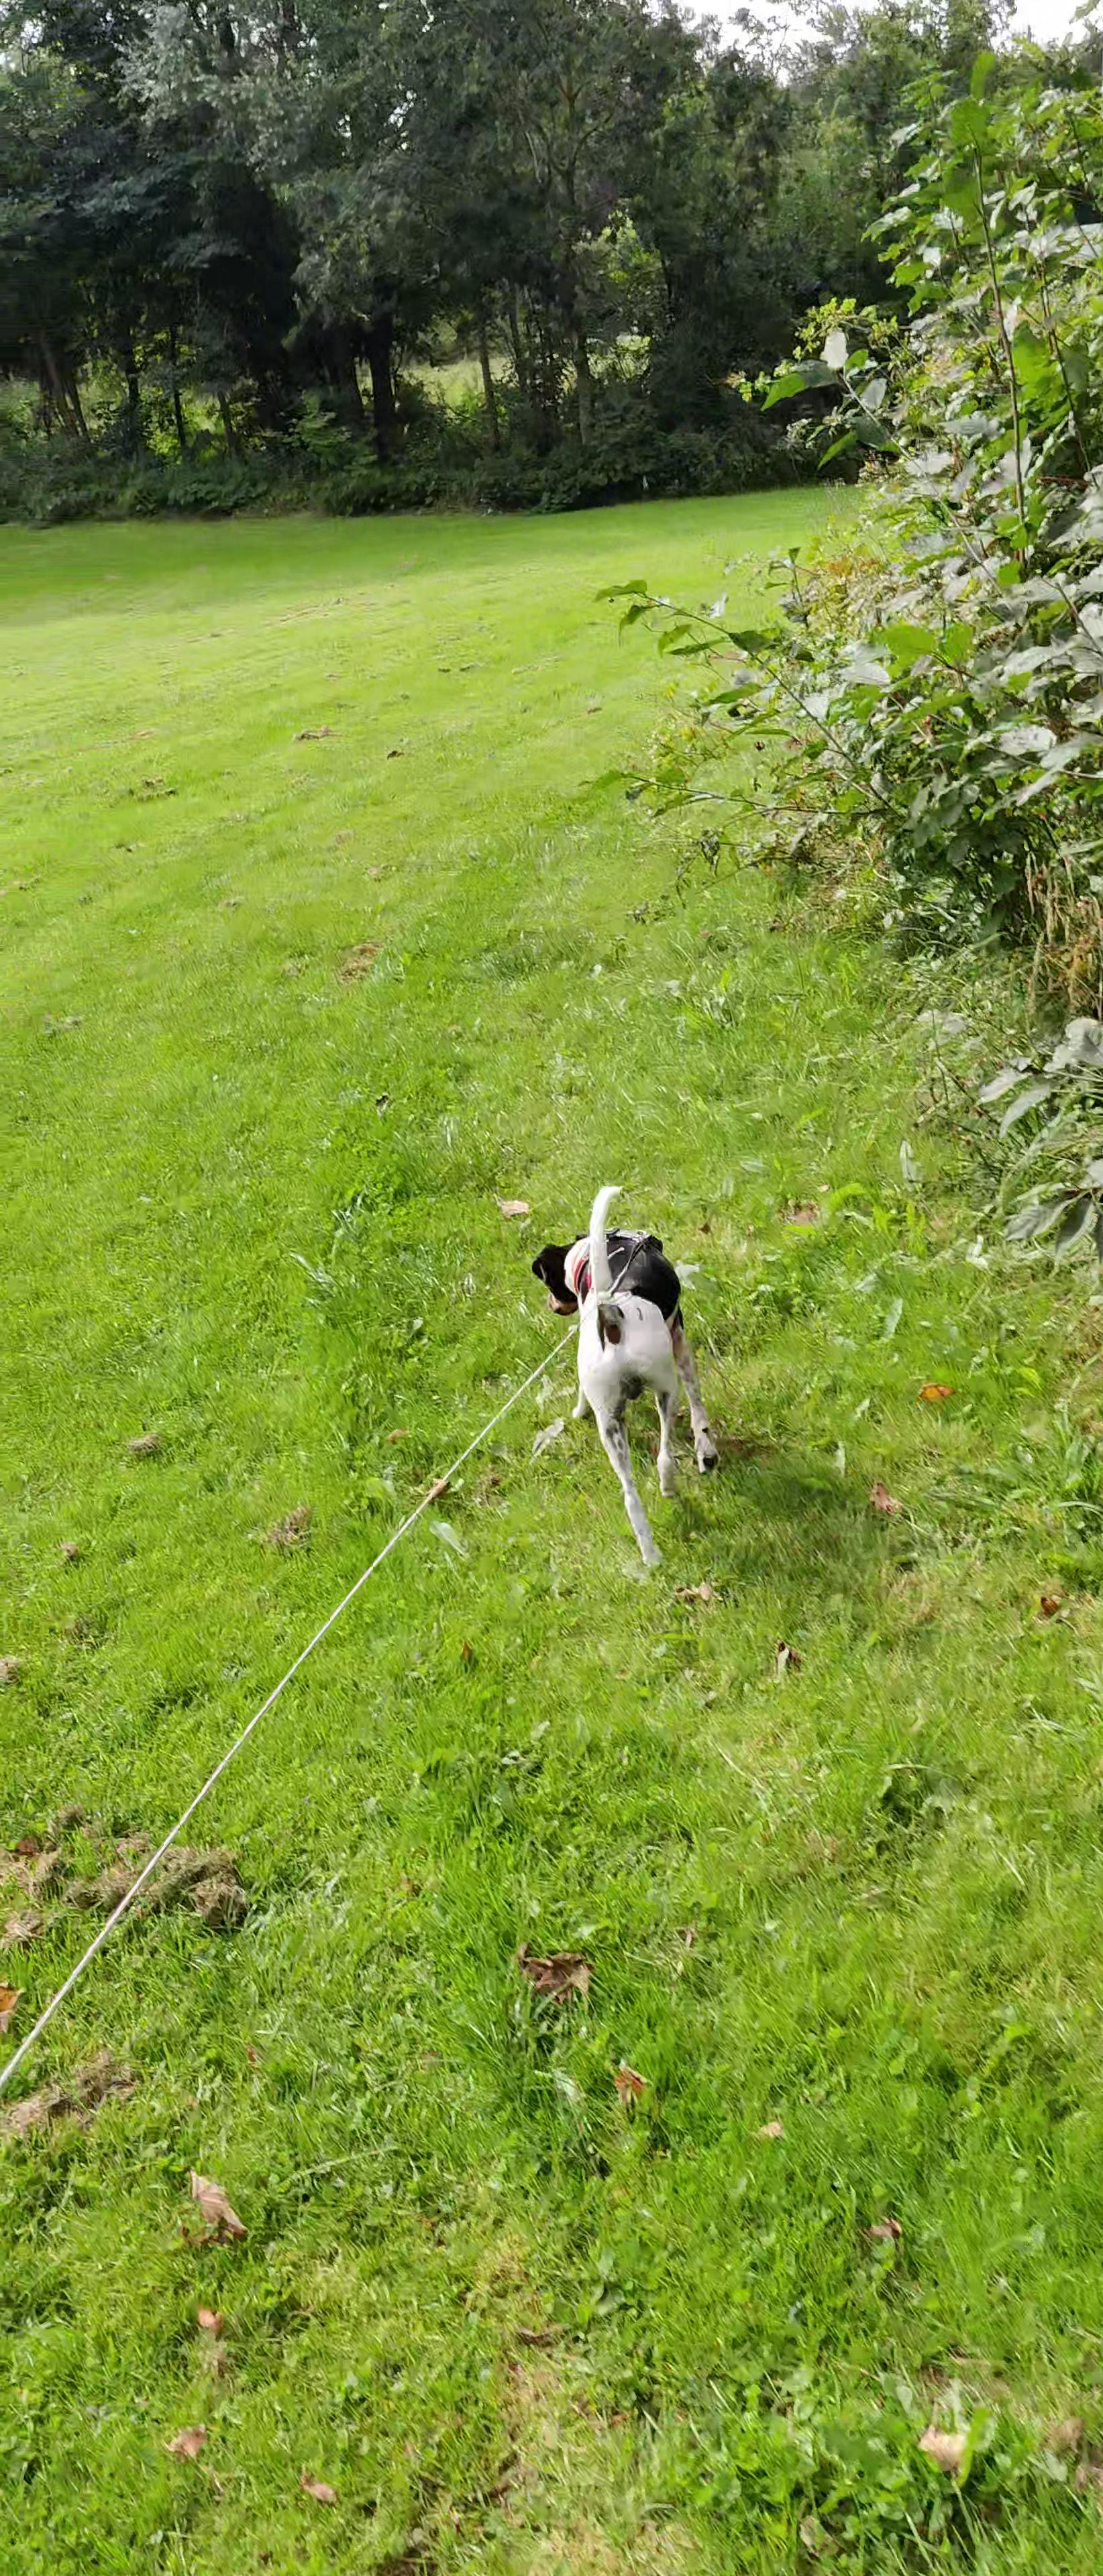Dog: (524, 1168, 723, 1567)
